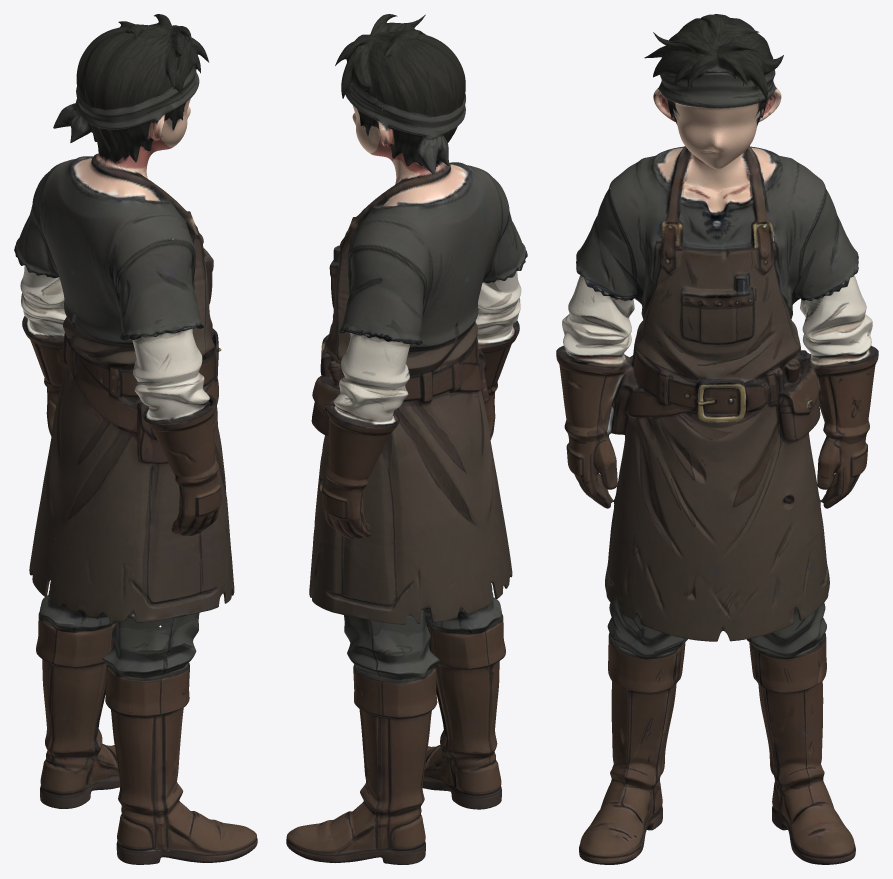
The model's file is medieval+worker+character+3d+model.glb.
3 renders of one model, left to right at view 1: azimuth 30°, elevation 25°; view 2: azimuth 150°, elevation 25°; view 3: azimuth 270°, elevation 25°, orthographic. The views are drawn at different scales.
Parts seen in each view (by area): view 1: tripo_node_7f2cd205-0251-418f-ba64-c048004e774f; view 2: tripo_node_7f2cd205-0251-418f-ba64-c048004e774f; view 3: tripo_node_7f2cd205-0251-418f-ba64-c048004e774f.
Part boxes in pixels (x1,y1,x2,y2): tripo_node_7f2cd205-0251-418f-ba64-c048004e774f: (14,14,257,864); tripo_node_7f2cd205-0251-418f-ba64-c048004e774f: (286,14,527,864); tripo_node_7f2cd205-0251-418f-ba64-c048004e774f: (556,14,878,864).
Bounding box in the file's own units: 0.2231 × 0.9999 × 0.3564.
Materials: 1 (1 with a texture image).
